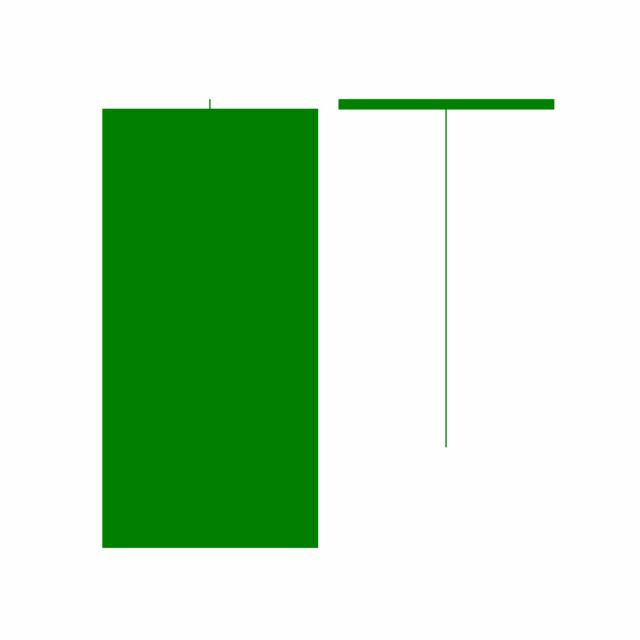Hanging Man: (327, 95, 565, 451)
